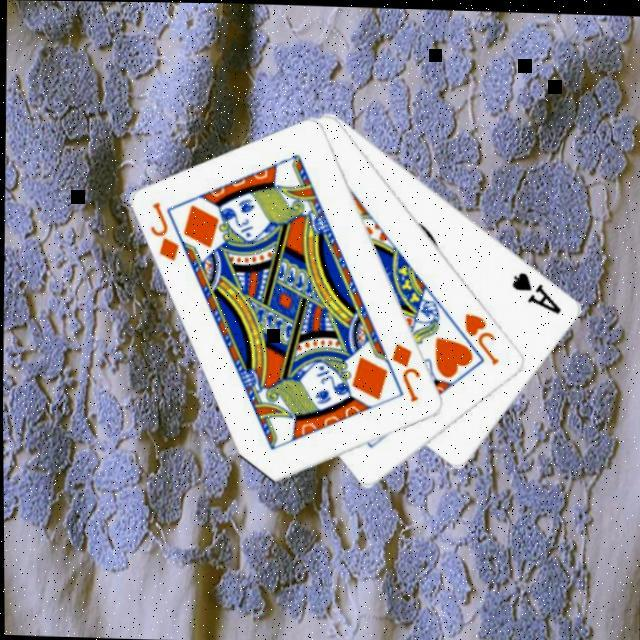AS: (505, 263, 562, 313)
JD: (385, 336, 421, 401), (144, 196, 180, 261)
JH: (458, 305, 500, 365)
